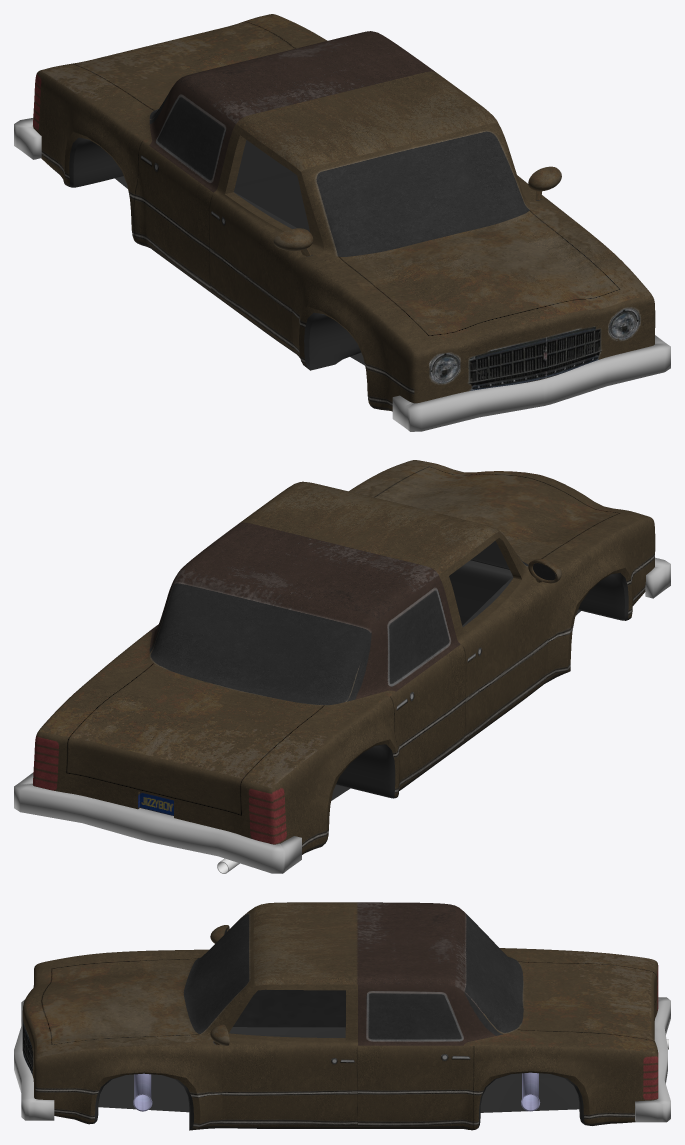
File: Car.glb
3 views of the same model, one above another, from view 1: azimuth 30°, elevation 25°; view 2: azimuth 150°, elevation 25°; view 3: azimuth 270°, elevation 25° (orthographic). The views are drawn at different scales.
Parts seen in each view (by area): view 1: Car, Door R, Bumper Front, Door L, Bumper Back; view 2: Car, Door R, Bumper Back, Bumper Front; view 3: Car, Door L, Door R, Bumper Back, Bumper Front, Front Axle, Back Axle.
Part boxes in pixels (x1=…): Car: x1=33, y1=14, x2=655, y2=411; Door R: x1=209, y1=124, x2=323, y2=348; Bumper Front: x1=392, y1=335, x2=670, y2=431; Door L: x1=517, y1=166, x2=561, y2=201; Bumper Back: x1=14, y1=118, x2=41, y2=159; Car: x1=32, y1=460, x2=655, y2=854; Door R: x1=439, y1=532, x2=561, y2=740; Bumper Back: x1=14, y1=772, x2=301, y2=873; Bumper Front: x1=645, y1=557, x2=670, y2=598; Car: x1=22, y1=902, x2=658, y2=1130; Door L: x1=210, y1=984, x2=357, y2=1124; Door R: x1=210, y1=925, x2=345, y2=1027; Bumper Back: x1=635, y1=997, x2=670, y2=1122; Bumper Front: x1=14, y1=999, x2=54, y2=1120; Front Axle: x1=133, y1=1073, x2=152, y2=1111; Back Axle: x1=521, y1=1072, x2=540, y2=1111.
Bounding box in the file's own units: 0.9087 × 0.5229 × 2.21.
3 materials, 2 textured.
